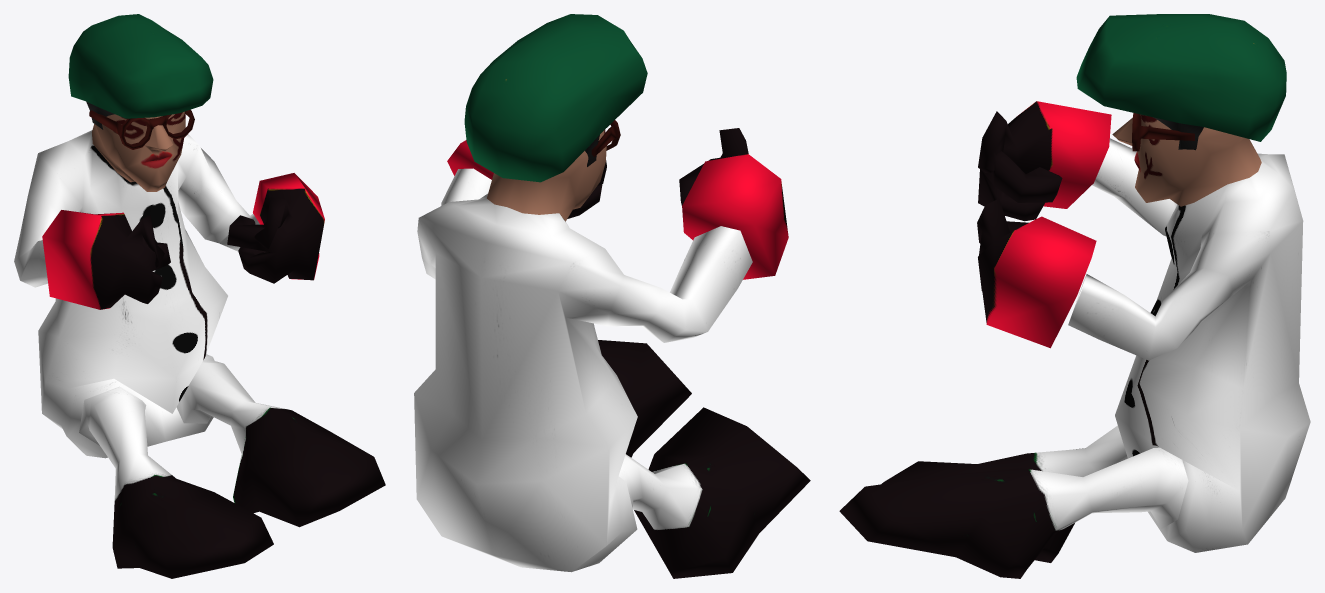
The model's file is Tom_sit.fbx.
The picture shows the model from 3 angles, left to right: view 1: azimuth 30°, elevation 25°; view 2: azimuth 150°, elevation 25°; view 3: azimuth 270°, elevation 25°; orthographic projection. The views are drawn at different scales.
Parts seen in each view (by area): view 1: Tom_mesh; view 2: Tom_mesh; view 3: Tom_mesh.
Part boxes in pixels (bbox=[...]): Tom_mesh: bbox=[14, 14, 385, 578]; Tom_mesh: bbox=[414, 14, 810, 578]; Tom_mesh: bbox=[839, 14, 1310, 578].
Bounding box in the file's own units: 55.68 × 95.04 × 71.07.
1 material, 1 textured.
